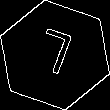L_S: (31, 26, 79, 84)
